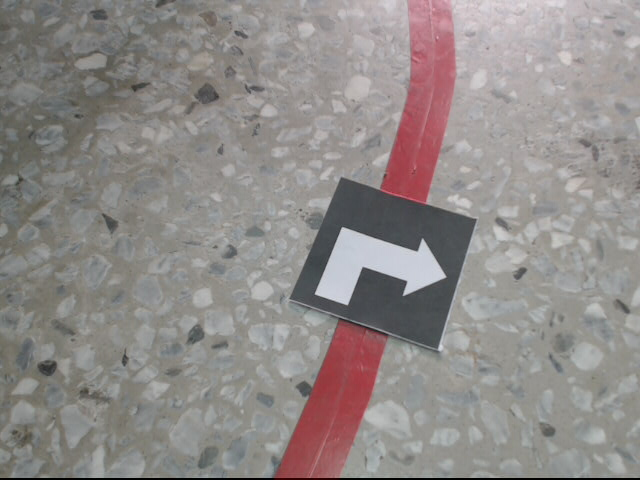right: (289, 176, 479, 351)
